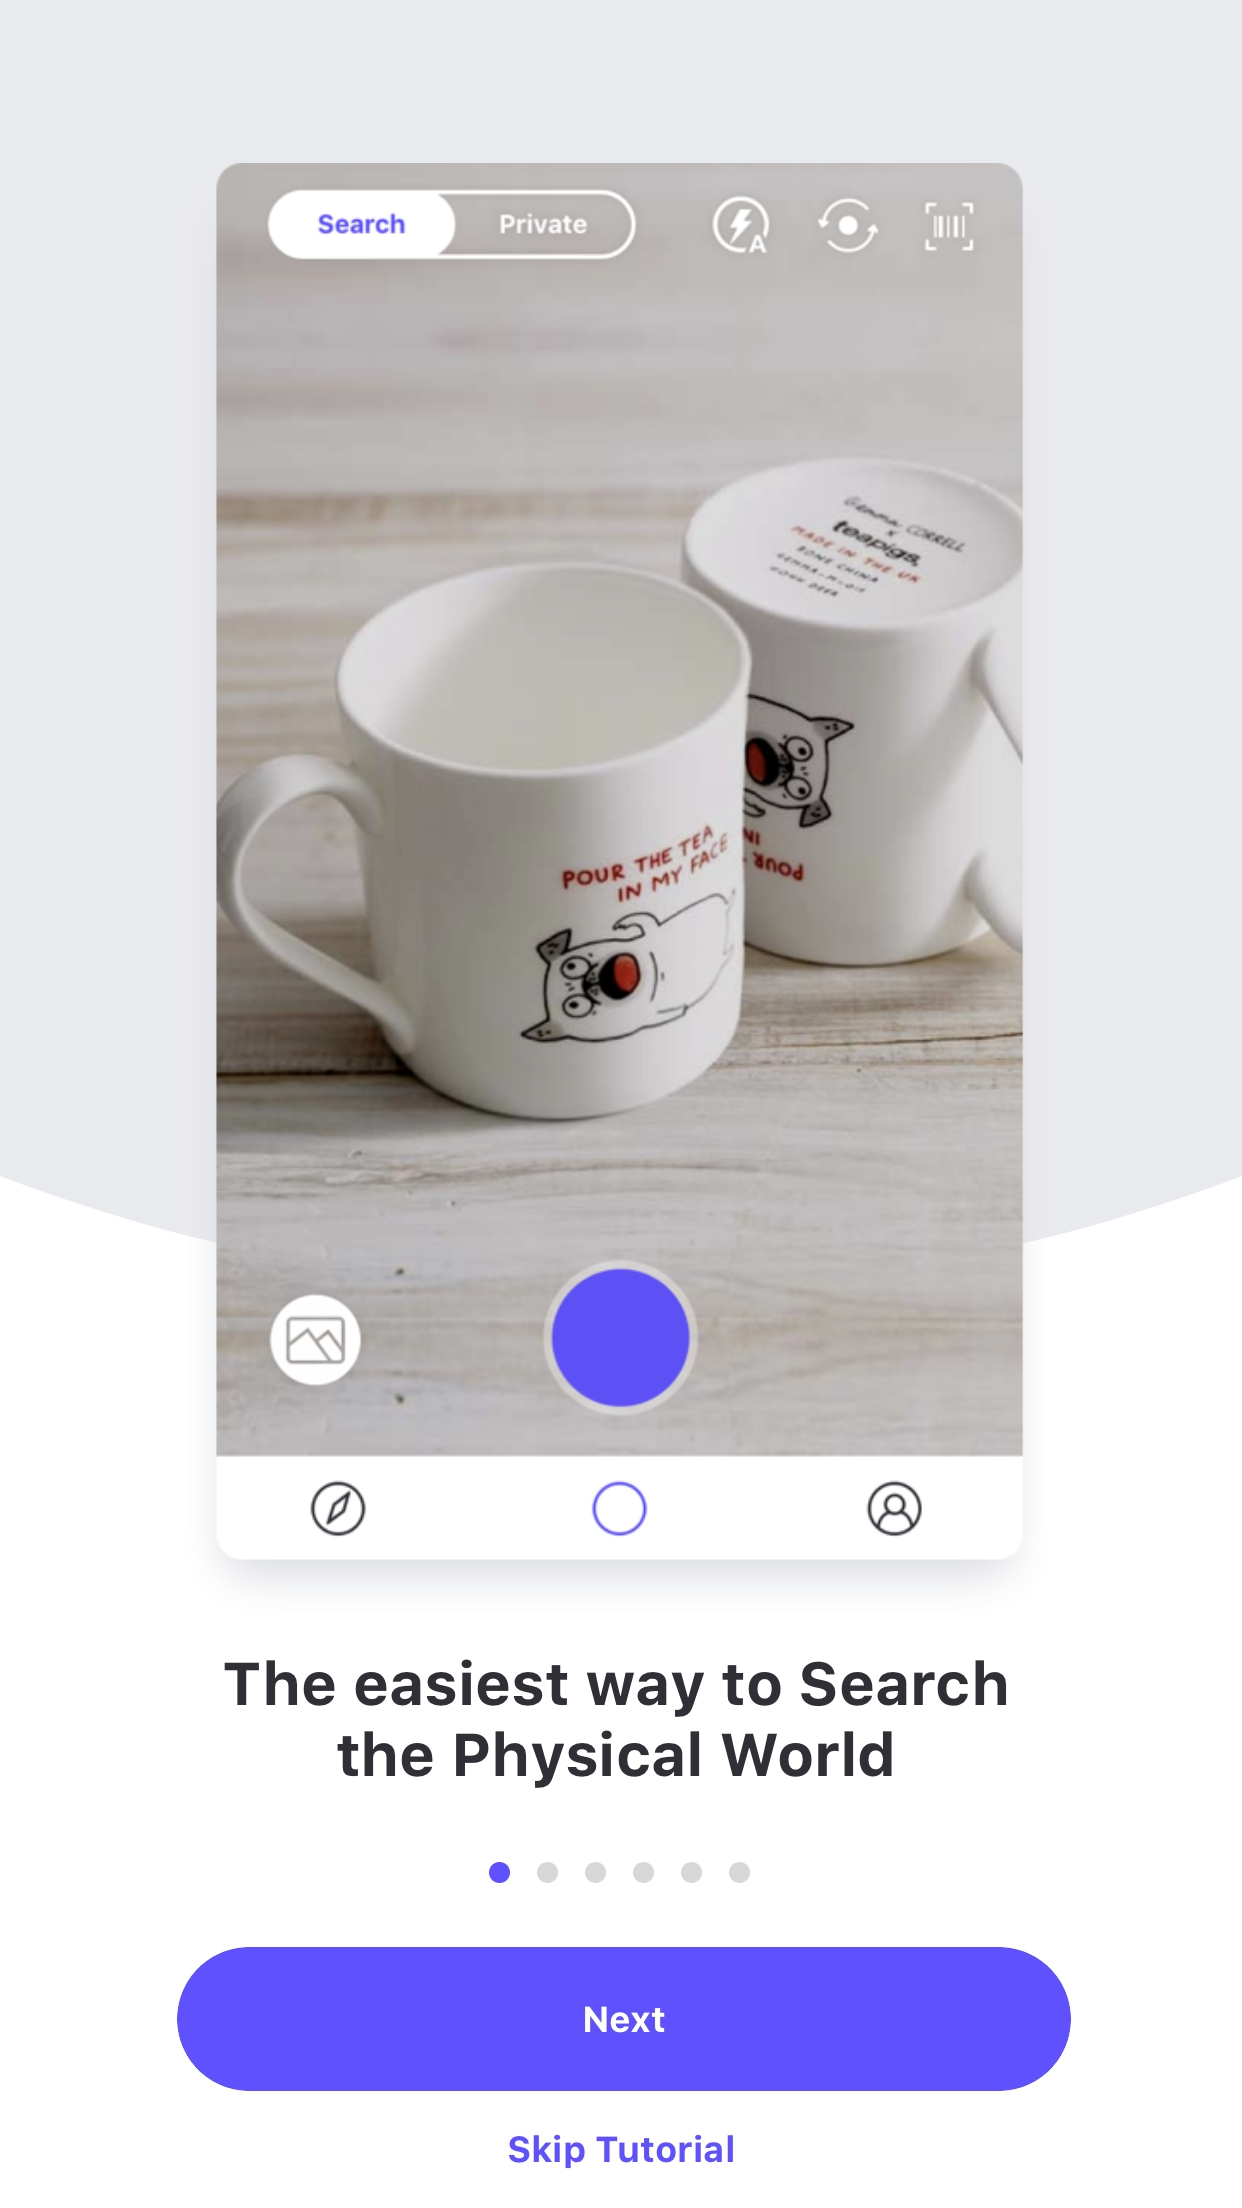Image: (215, 162, 1024, 1560)
PageIndicator: (488, 1861, 751, 1883)
Text: (224, 1659, 1005, 1788), (510, 2134, 732, 2169)
TextButton: (177, 1946, 1071, 2091)
